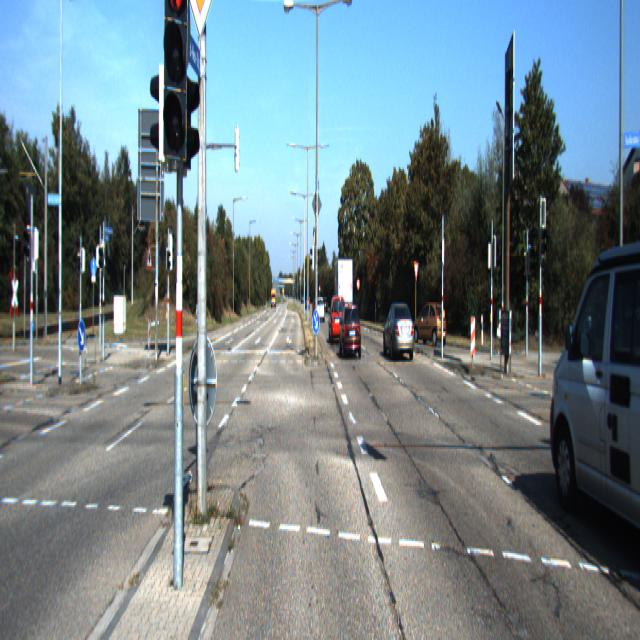Car: (546, 221, 640, 578), (383, 300, 415, 362), (413, 300, 447, 346), (333, 255, 353, 324), (339, 304, 362, 360), (328, 294, 346, 346)
